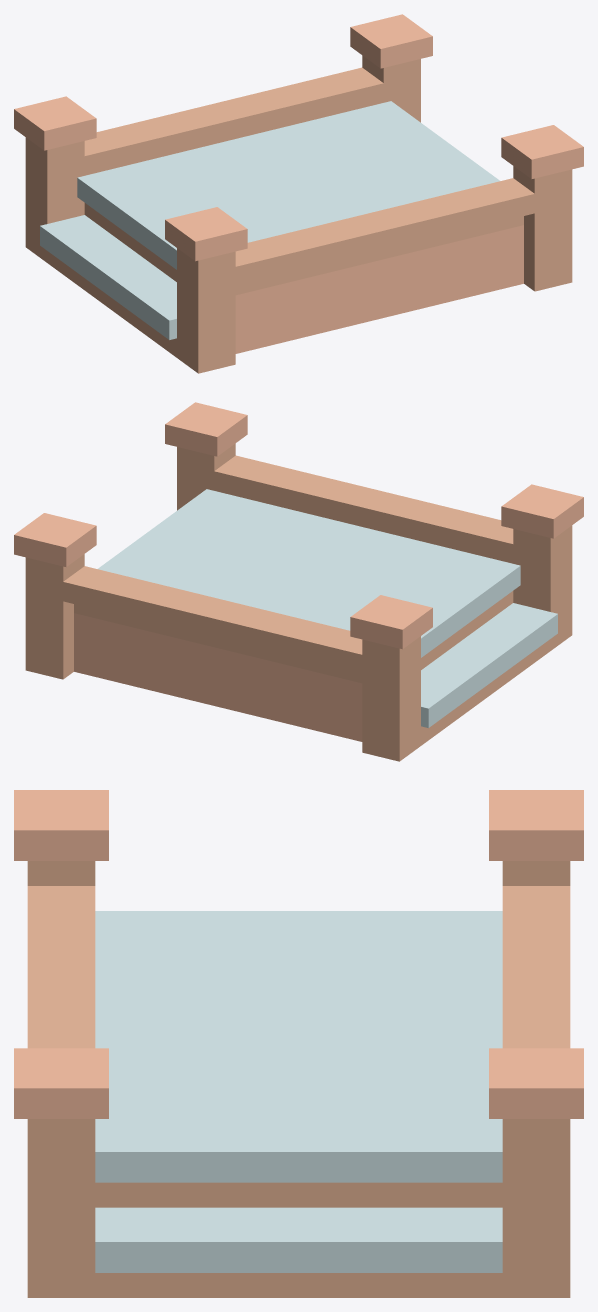
The model's file is bridge_woodNarrow.glb.
3 renders of one model, top to bottom at view 1: azimuth 30°, elevation 25°; view 2: azimuth 150°, elevation 25°; view 3: azimuth 270°, elevation 25°, orthographic. The views are drawn at different scales.
Parts seen in each view (by area): view 1: bridge_woodNarrow; view 2: bridge_woodNarrow; view 3: bridge_woodNarrow.
Boxes of the visible parts, <box> form: bridge_woodNarrow: <box>14,14,583,373</box>; bridge_woodNarrow: <box>14,402,583,761</box>; bridge_woodNarrow: <box>14,790,583,1297</box>.
Size of the model in its own units: 1.04 by 0.35 by 0.84.
1 material, 1 textured.
